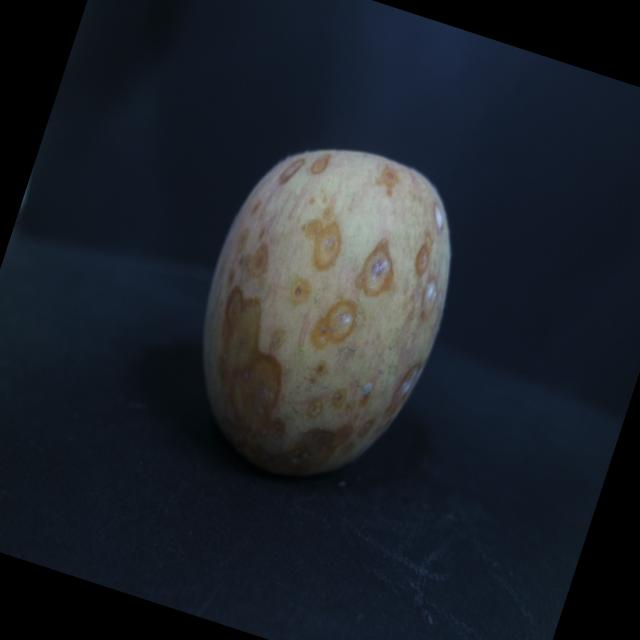rotten: (154, 113, 492, 524)
